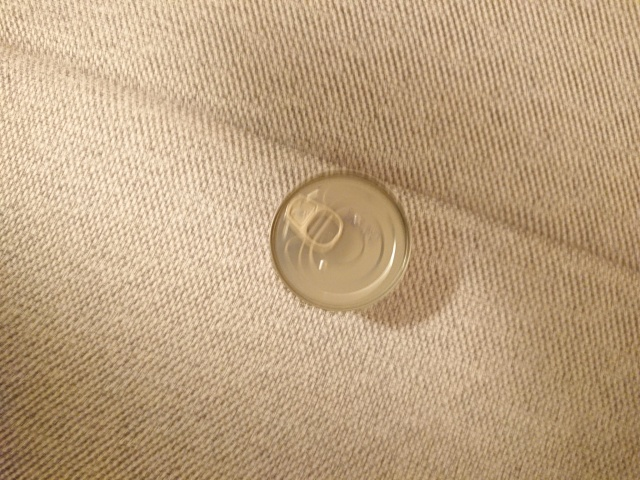Podravka Luncheon Meat 150g: (266, 165, 415, 316)
